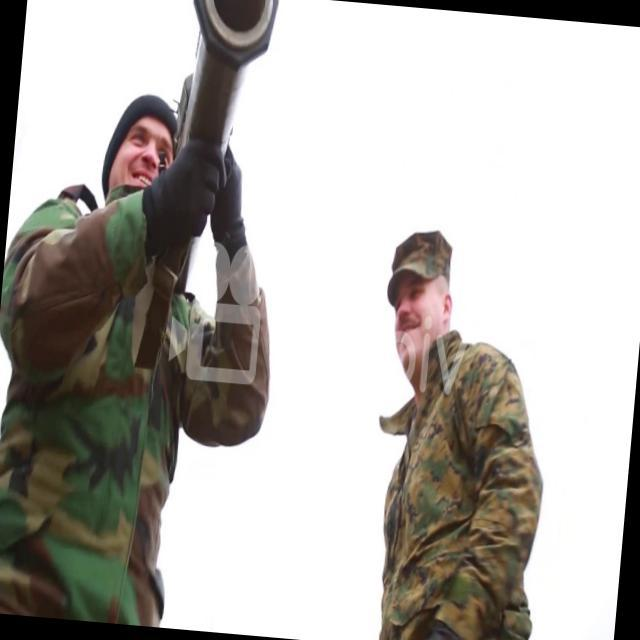rocket: (174, 0, 275, 157)
